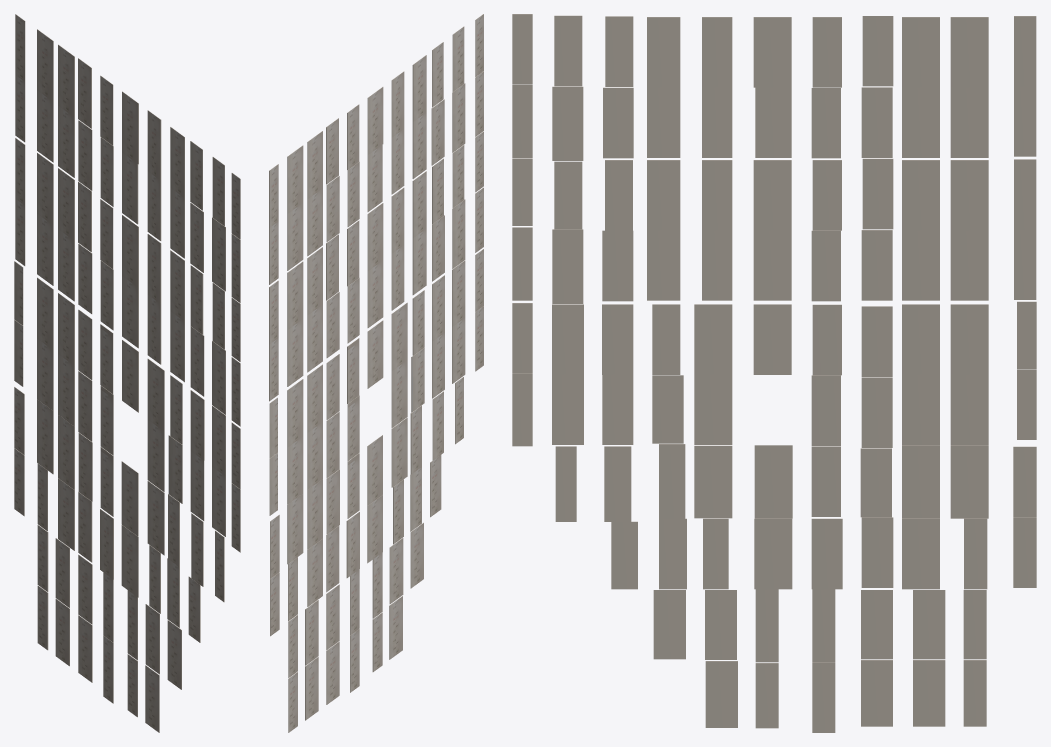
The picture shows the model from 3 angles, left to right: view 1: azimuth 30°, elevation 25°; view 2: azimuth 150°, elevation 25°; view 3: azimuth 270°, elevation 25°; orthographic projection. The views are drawn at different scales.
Parts seen in each view (by area): view 1: Plane006; view 2: Plane006; view 3: Plane006.
Boxes of the visible parts, x1,y1,x2,y2 form: Plane006: [14, 14, 240, 732]; Plane006: [269, 14, 483, 732]; Plane006: [512, 14, 1036, 732].
Size of the model in its own units: 0.6001 by 122 by 80.84.
Materials: 1 (1 with a texture image).
